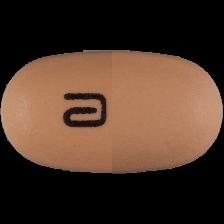0074-6214: (0, 0, 224, 224)
